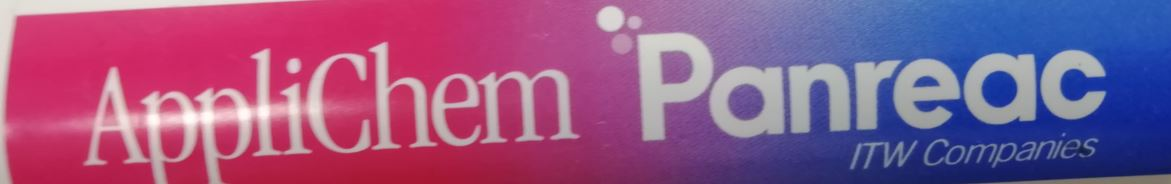ApplichemPanreac: (78, 21, 1116, 184)
